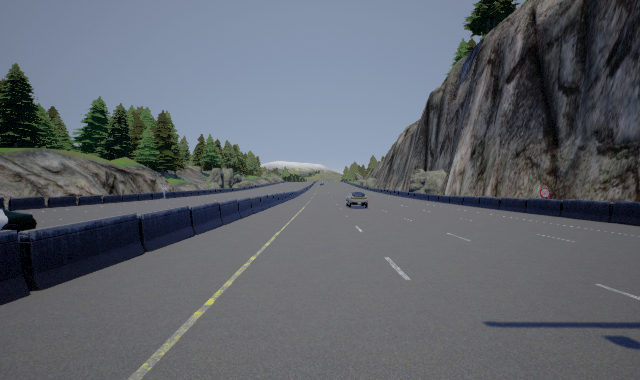traffic_sign: (540, 188, 550, 198)
vehicle: (346, 192, 368, 208)
